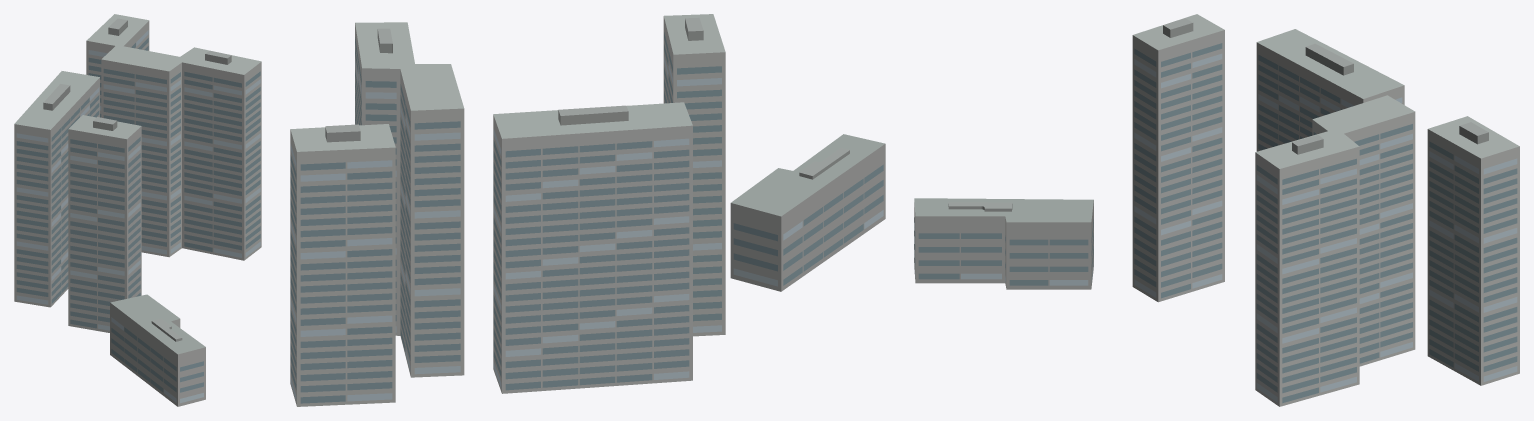
The model's file is apt-a15210207.glb.
3 renders of one model, left to right at view 1: azimuth 30°, elevation 25°; view 2: azimuth 150°, elevation 25°; view 3: azimuth 270°, elevation 25°, orthographic. The views are drawn at different scales.
Visible parts, largest first — view 1: apt-a15210207; view 2: apt-a15210207; view 3: apt-a15210207.
Part boxes in pixels (<box>): apt-a15210207: <box>14,14,261,406</box>; apt-a15210207: <box>290,14,885,406</box>; apt-a15210207: <box>914,14,1519,406</box>.
Bounding box in the file's own units: 91.91 × 74 × 156.
